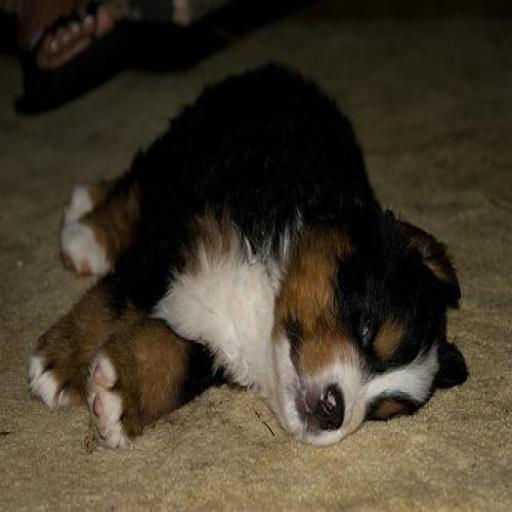dog_face: (270, 208, 464, 448)
